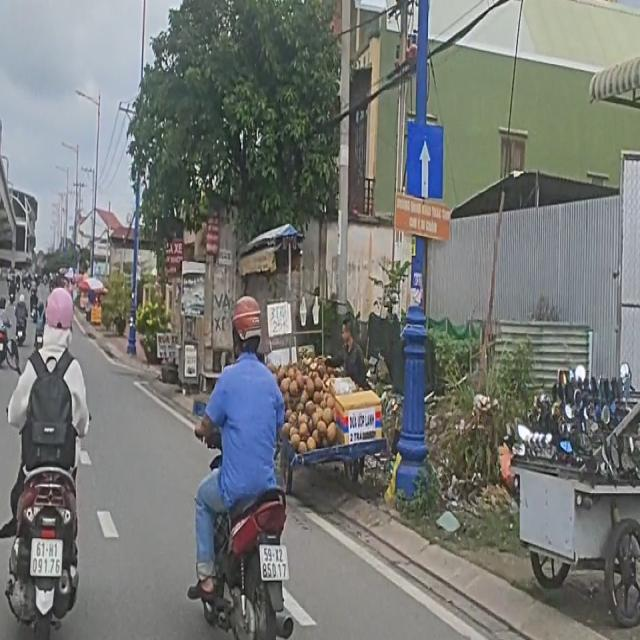Bien bao huong di thang phai theo: (397, 108, 451, 200)
